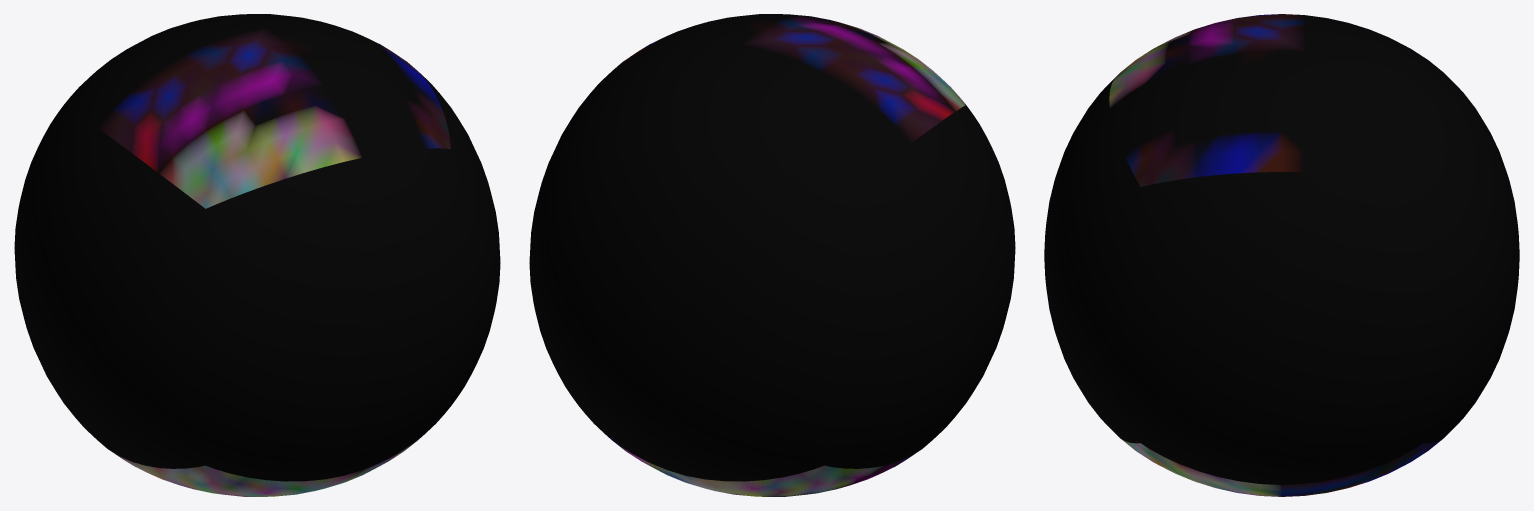
File: ball_adidas_sm.gltf
The picture shows the model from 3 angles, left to right: view 1: azimuth 30°, elevation 25°; view 2: azimuth 150°, elevation 25°; view 3: azimuth 270°, elevation 25°; orthographic projection.
Visible parts, largest first — view 1: ball_adidas_sm; view 2: ball_adidas_sm; view 3: ball_adidas_sm.
Boxes of the visible parts, x1,y1,x2,y2 form: ball_adidas_sm: (14,14,500,496); ball_adidas_sm: (529,14,1015,496); ball_adidas_sm: (1044,14,1519,496).
Size of the model in its own units: 1.84 by 1.84 by 1.84.
